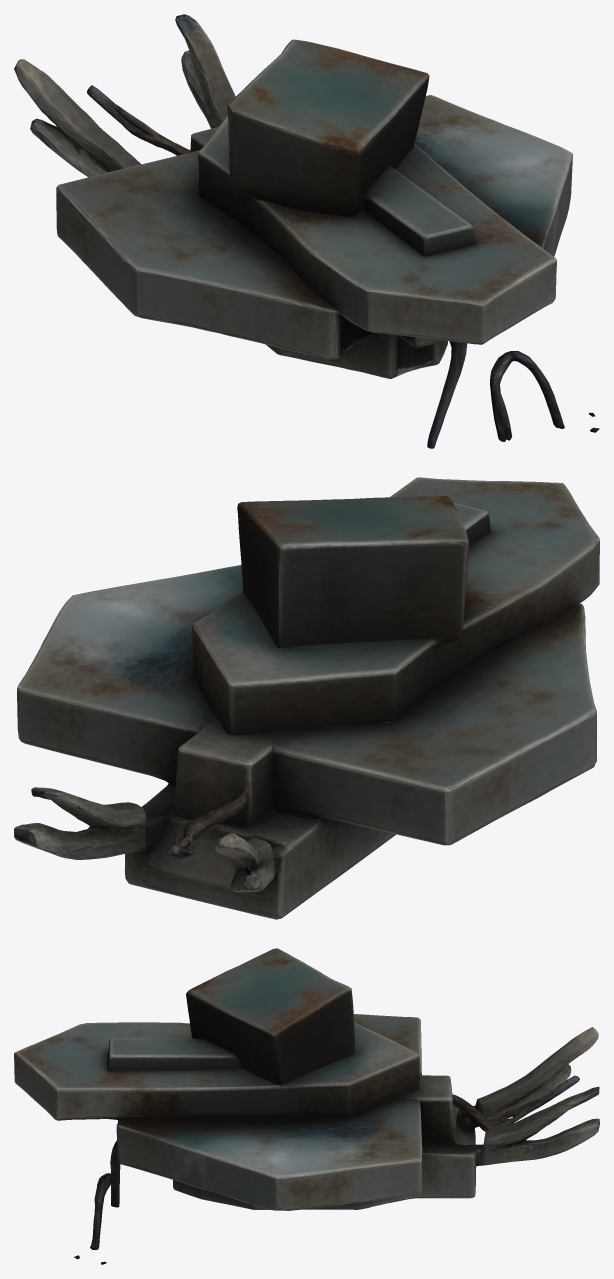
The model's file is scrap.glb.
3 renders of one model, top to bottom at view 1: azimuth 30°, elevation 25°; view 2: azimuth 150°, elevation 25°; view 3: azimuth 270°, elevation 25°, orthographic. The views are drawn at different scales.
Parts seen in each view (by area): view 1: world; view 2: world; view 3: world.
Part boxes in pixels (x1,y1,x2,y2): world: (14,14,599,448); world: (14,477,599,919); world: (14,948,599,1264).
Size of the model in its own units: 0.6771 by 0.4244 by 0.9988.
1 material, 1 textured.
